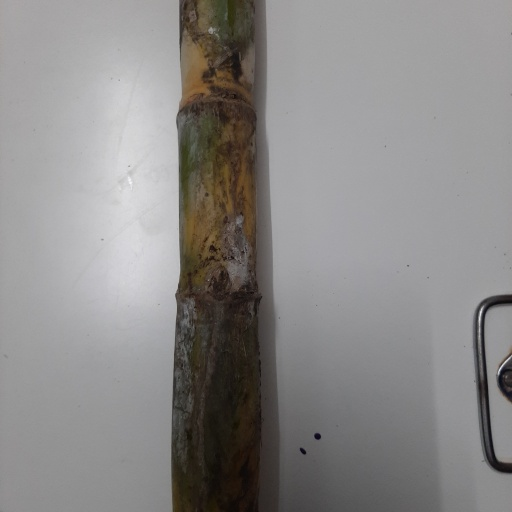Bud: (206, 263, 232, 301)
